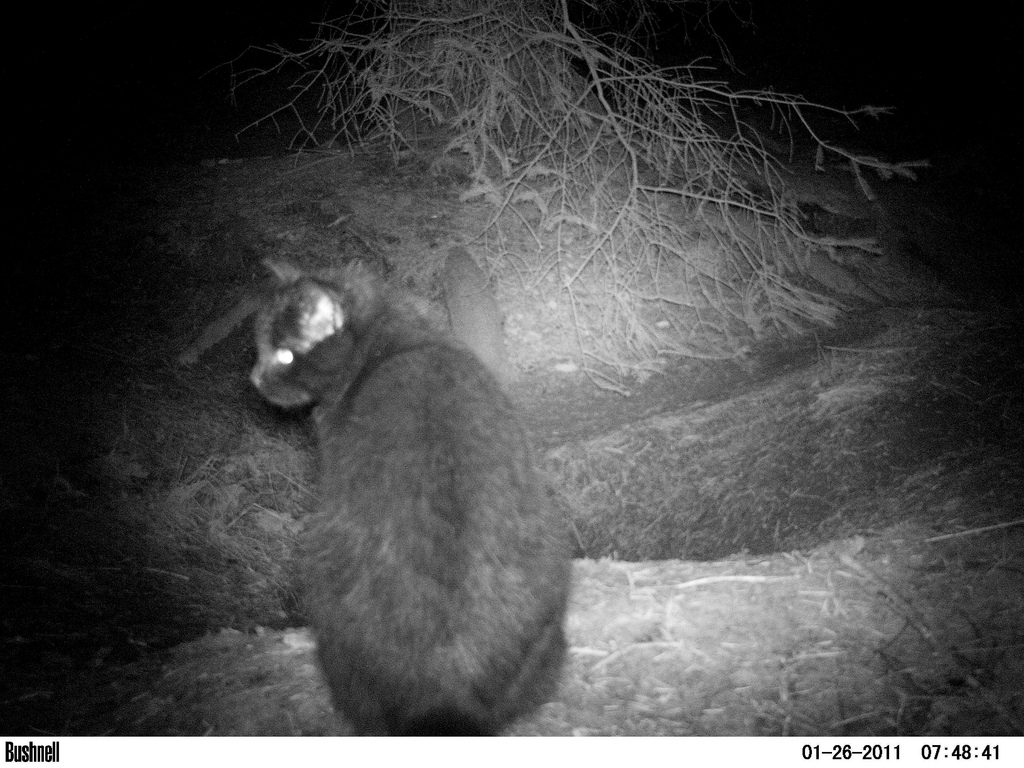house cat: (208, 264, 680, 725)
